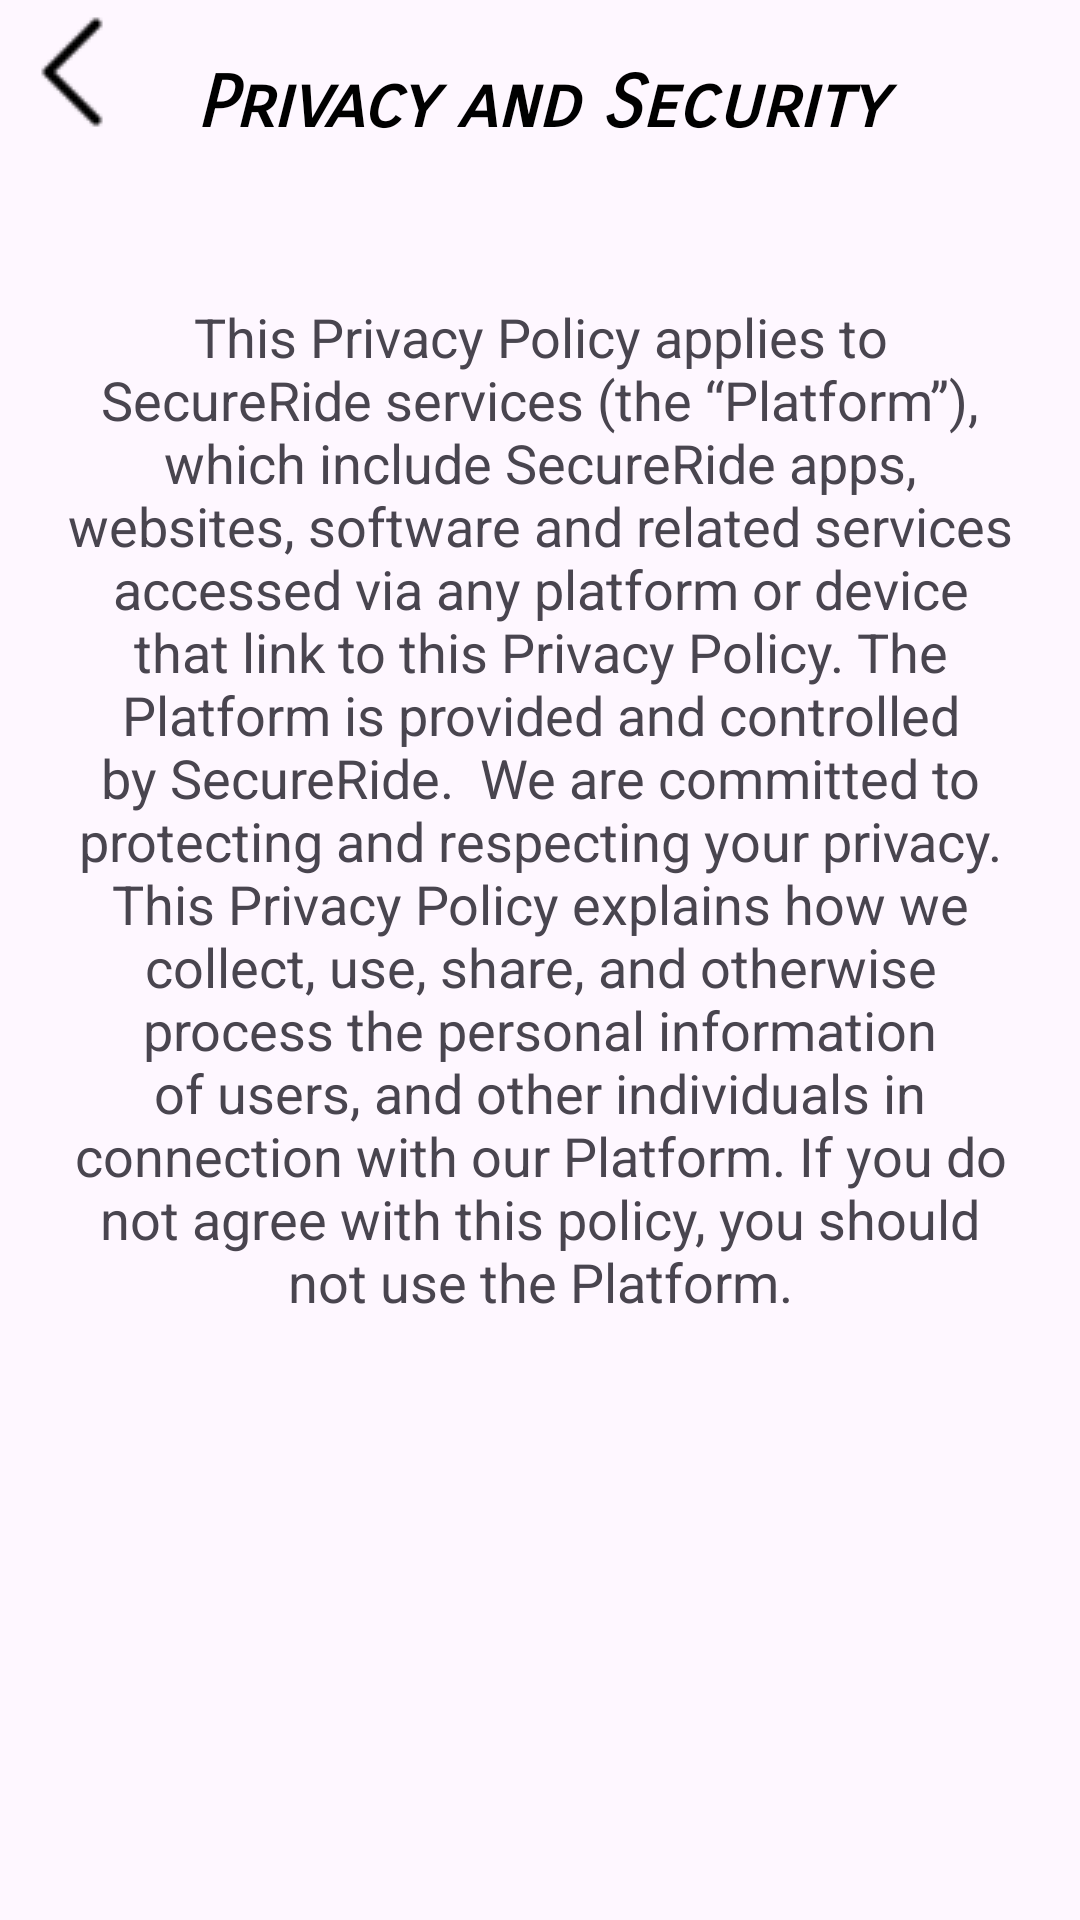

Point at icon controls on the screen. Image size 1080w x 1920h, points as (x,y).
back: (72,72)
